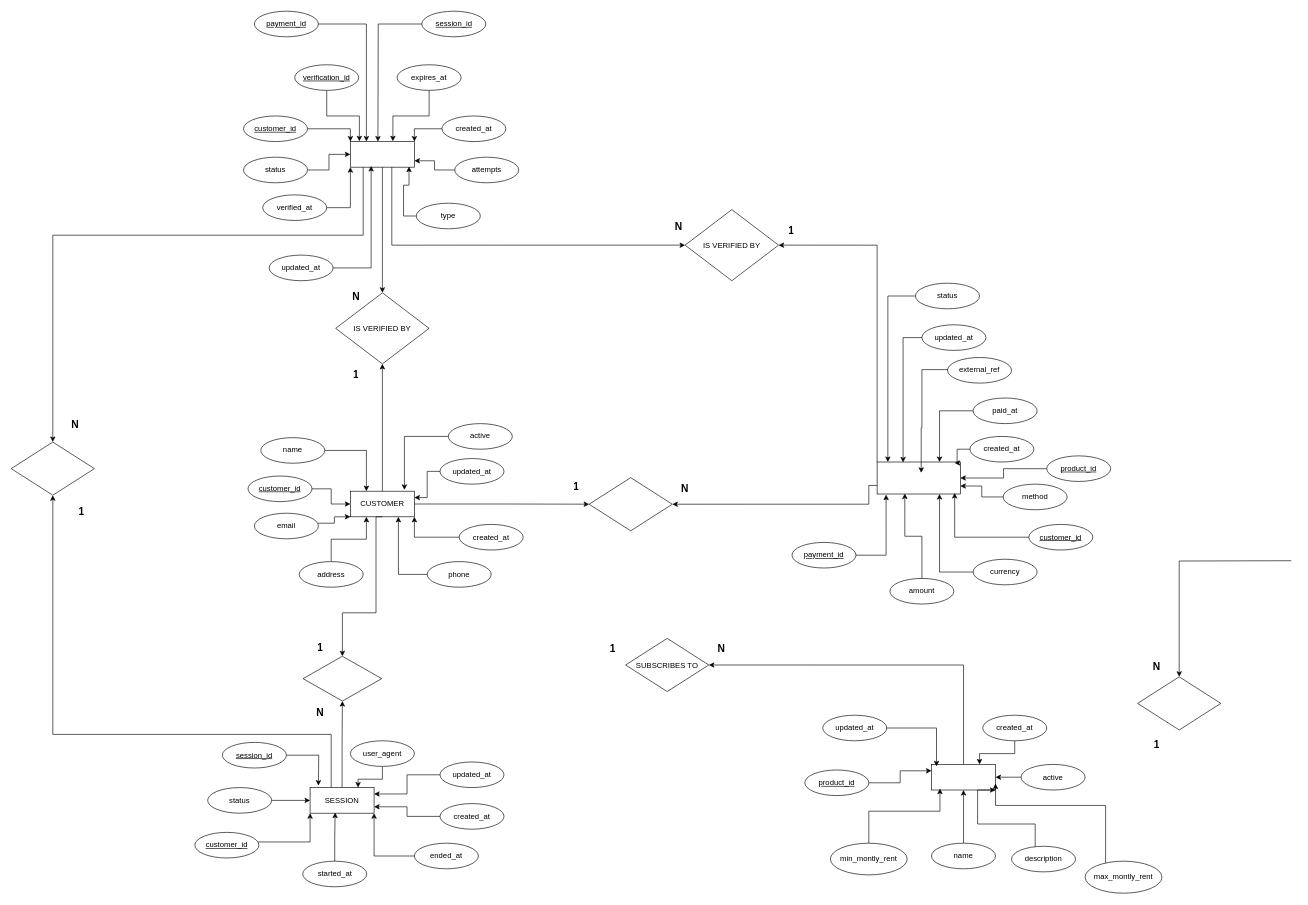
Image size: 1308x905. Some labels were removed from this diagram. The centre of each missing label's shape, as x and y in pixels:
IS AUTHENTICATED WITH: point (52, 468)
MAKES: point (630, 504)
PAYMENT: point (918, 477)
PRODUCT: point (963, 777)
PURCHASES: point (1179, 703)
STARTS: point (342, 678)
VERIFICATION: point (382, 154)
